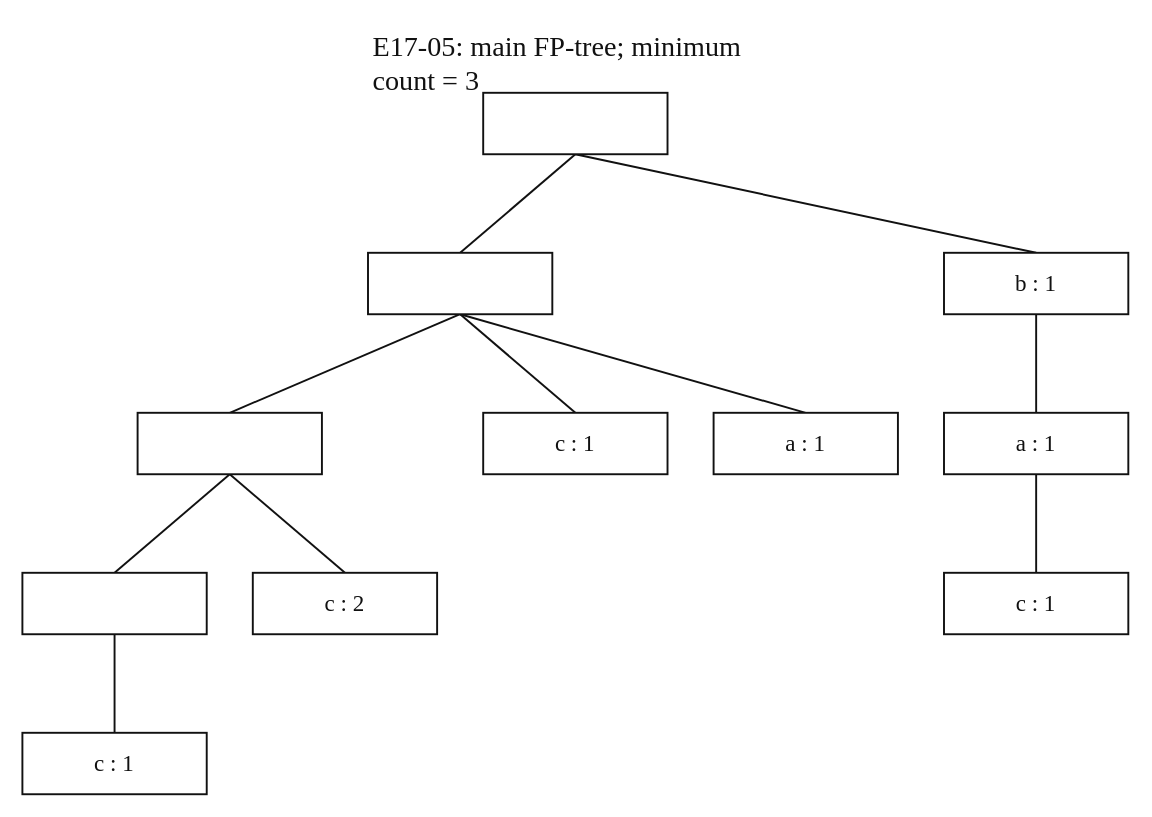
The diagram is 1152 pixels wide and 817 high, and some of its shapes have lost their labels. Here are the shapes that lost their labels. From the top down, the centre of each, then its label:
(x=575, y=123): root
(x=459, y=283): d : 9
(x=229, y=443): b : 7
(x=114, y=603): a : 3
